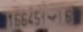1: (8, 14, 12, 27)
4: (29, 13, 33, 25)
5: (34, 11, 40, 25)
6: (65, 9, 71, 23), (14, 13, 20, 26), (22, 12, 27, 26)
b: (46, 13, 59, 23)
